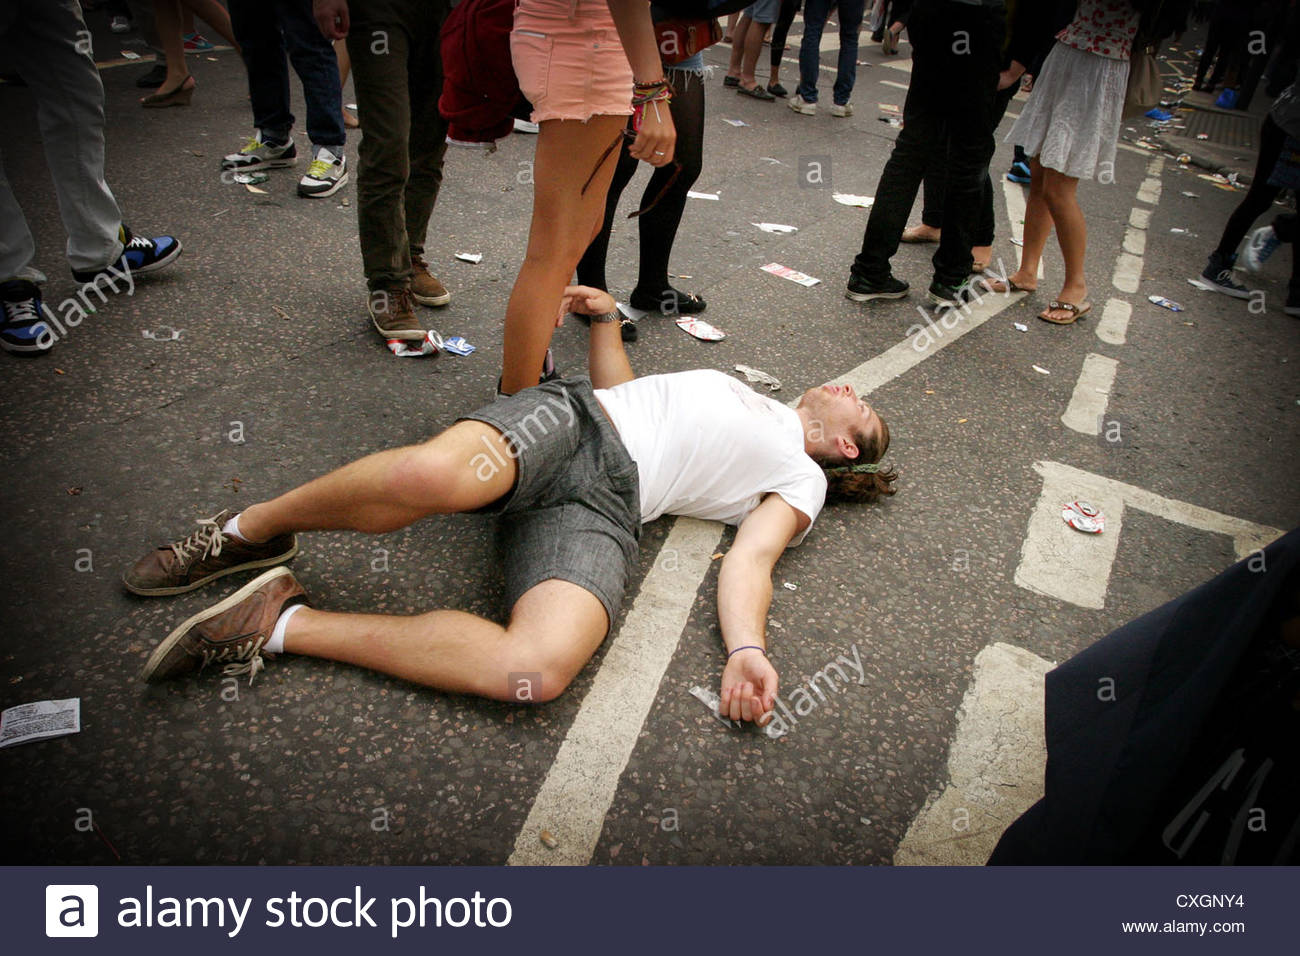collapsed: (92, 317, 1058, 754)
